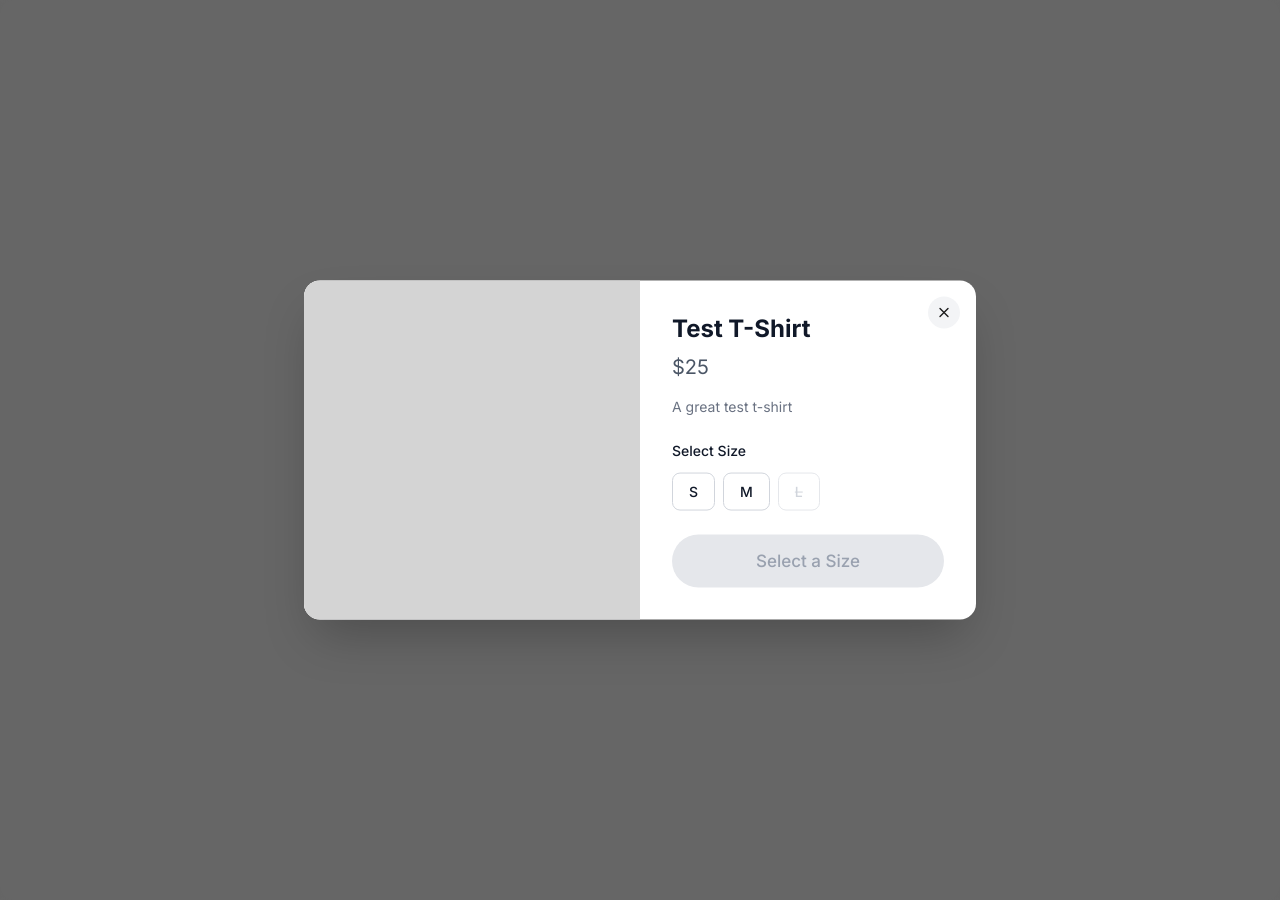
it: ProductModal › enables buy button after selecting a variant
This screenshot has width=1280, height=900.
Click the button "M" at {"x": 746, "y": 492}, box [723,473,770,511]
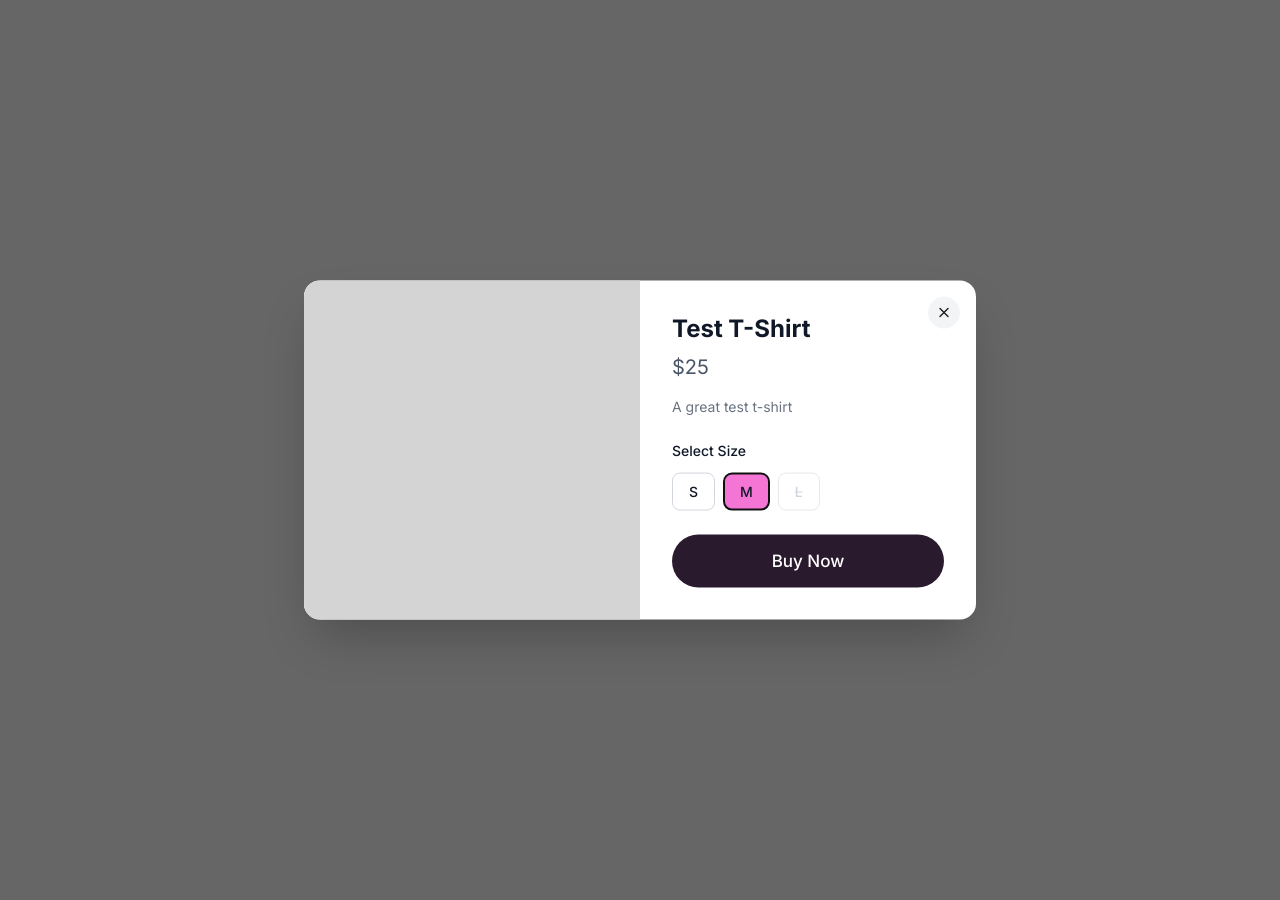
Expected: the button "Buy Now" is enabled, [672,535,944,588]
